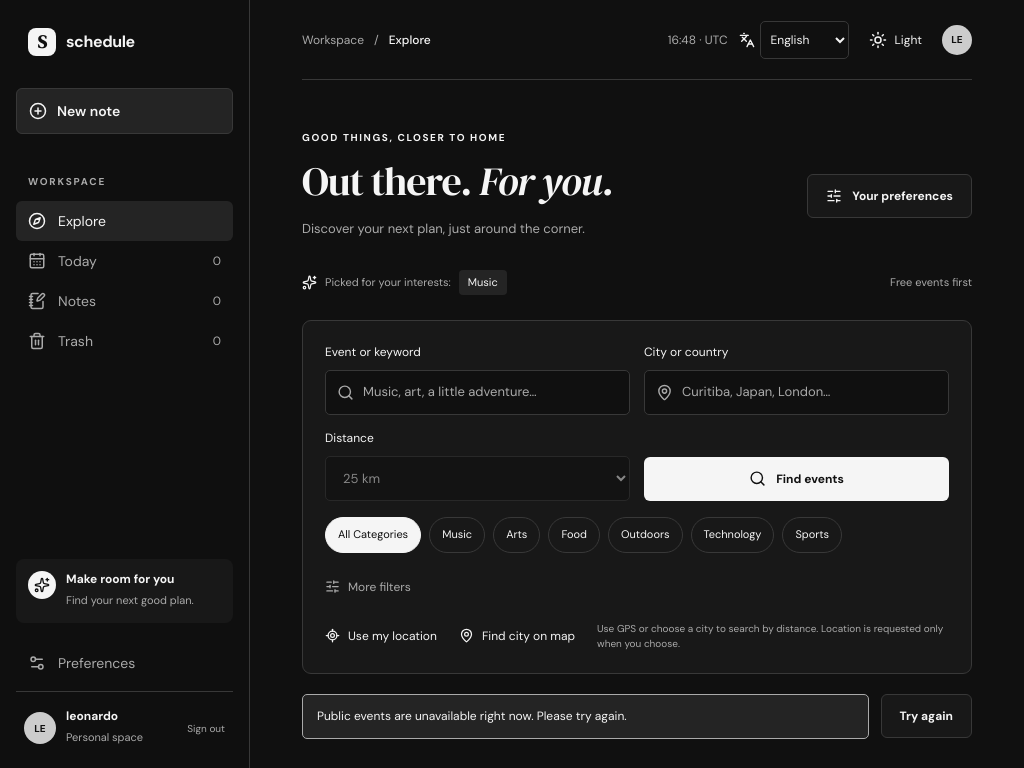
Test case: authenticated workspace gating › opens saved preferences from the profile, cancels, then saves changes from the sidebar
Click the button with aria-label "Open account menu" at (957, 40), box [942,24,972,54]
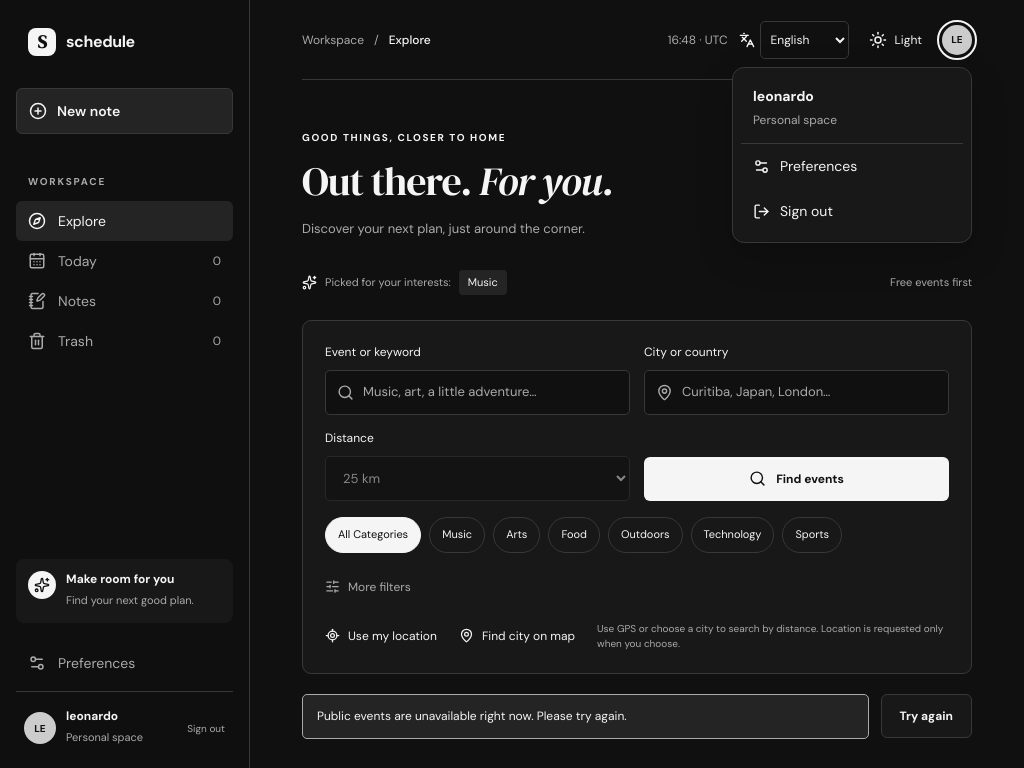
Click the button "Preferences" below "16:48" at (852, 166), box [741,144,963,188]
(page scrolled)
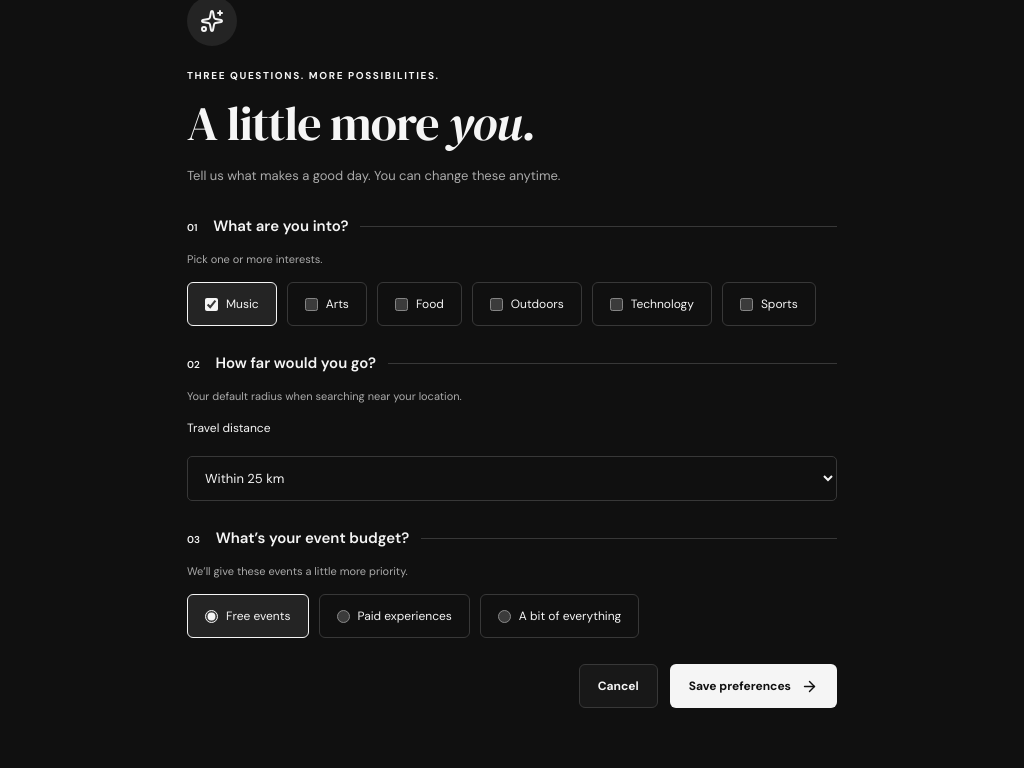
Result: the checkbox labelled "Music" is checked at [205,298,218,311]
Result: the dropdown labelled "Travel distance" shows "Within 25 km" at [187,456,837,501]
Click the button "Cancel" at (618, 686), box [579,664,658,708]
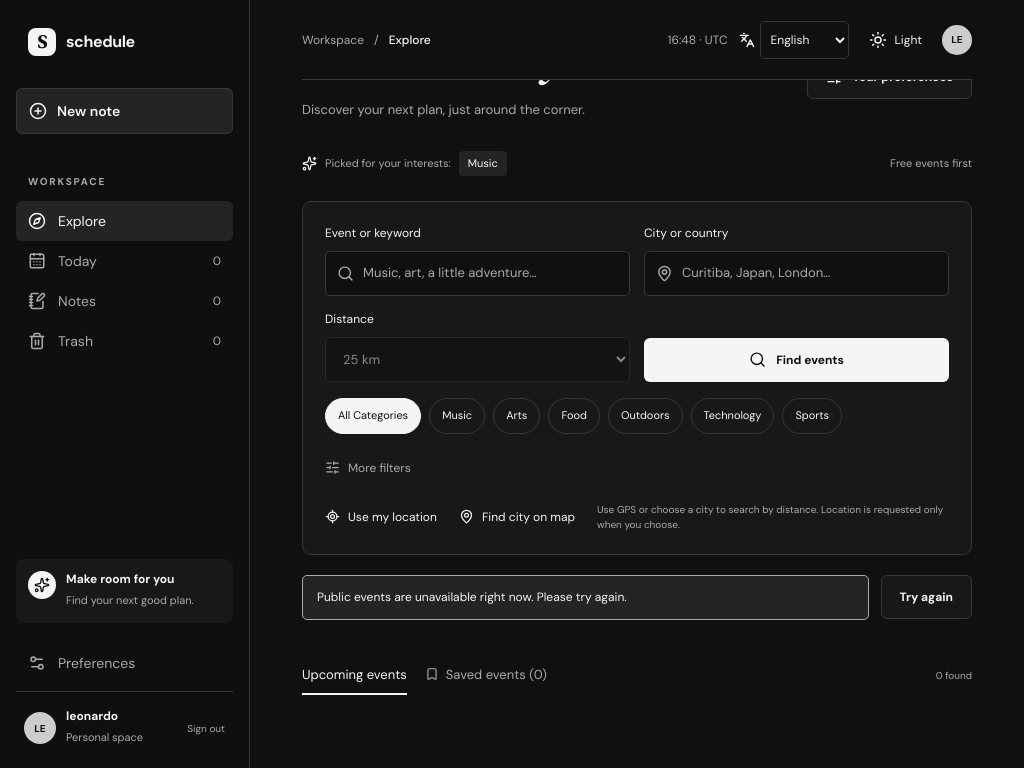
Click the button "Preferences" at (124, 663), box [16,643,233,683]
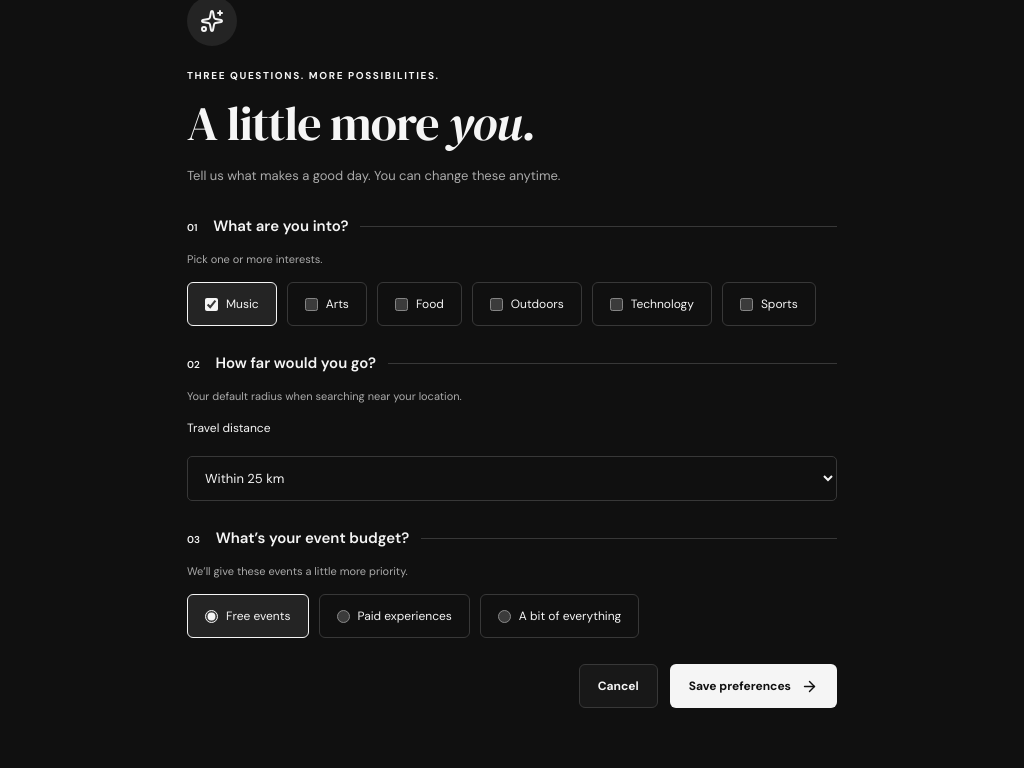
Select "Within 50 km" in the dropdown labelled "Travel distance" at (512, 479), box [187,456,837,501]
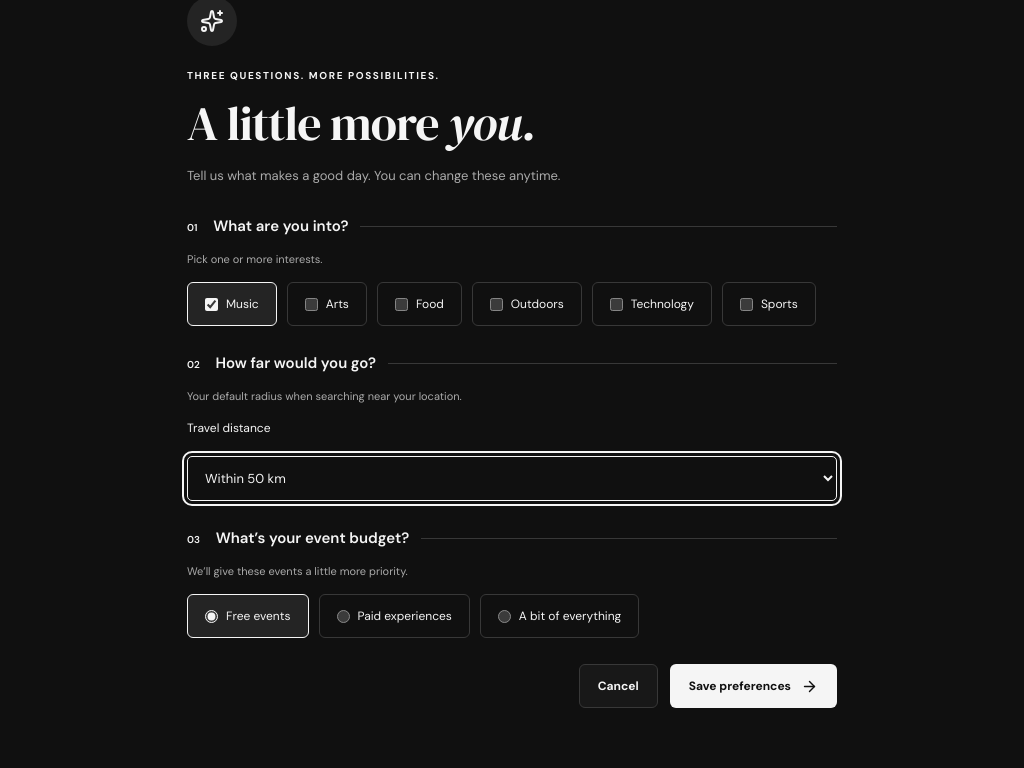
Click the button "Save preferences" at (753, 686), box [670,664,837,708]
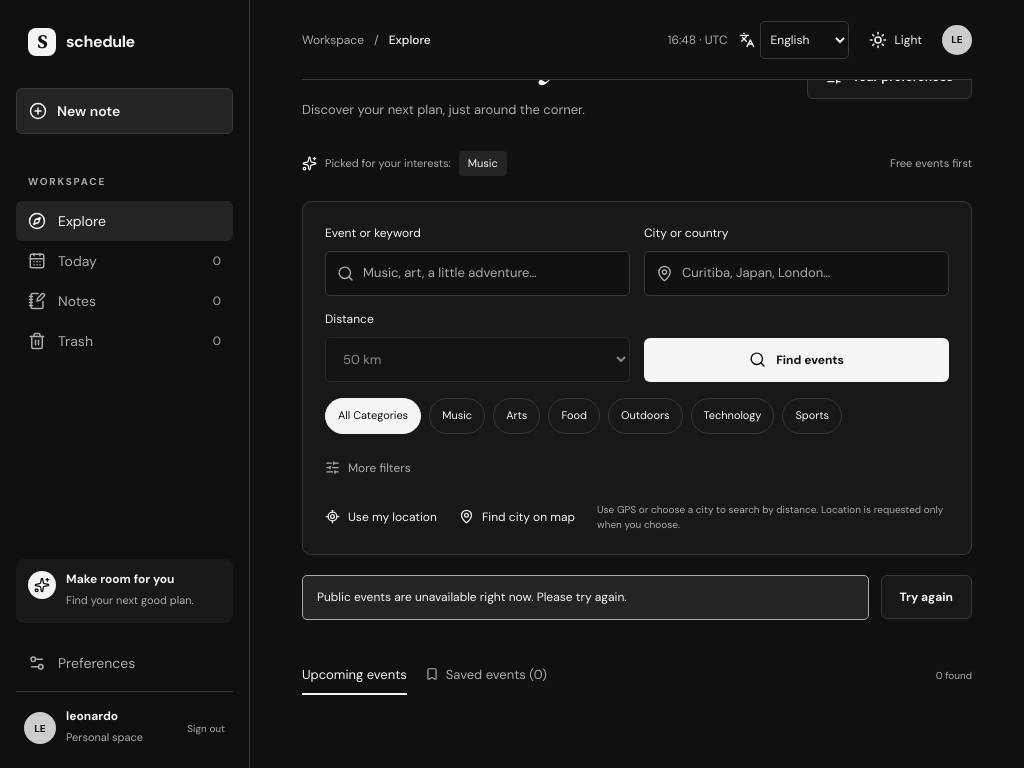
Result: the button with aria-label "Open account menu" is shown at [942,24,972,54]
